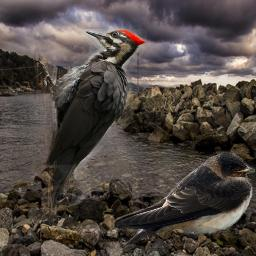Swallow: (113, 152, 255, 249)
Woodpecker: (34, 29, 147, 215)
